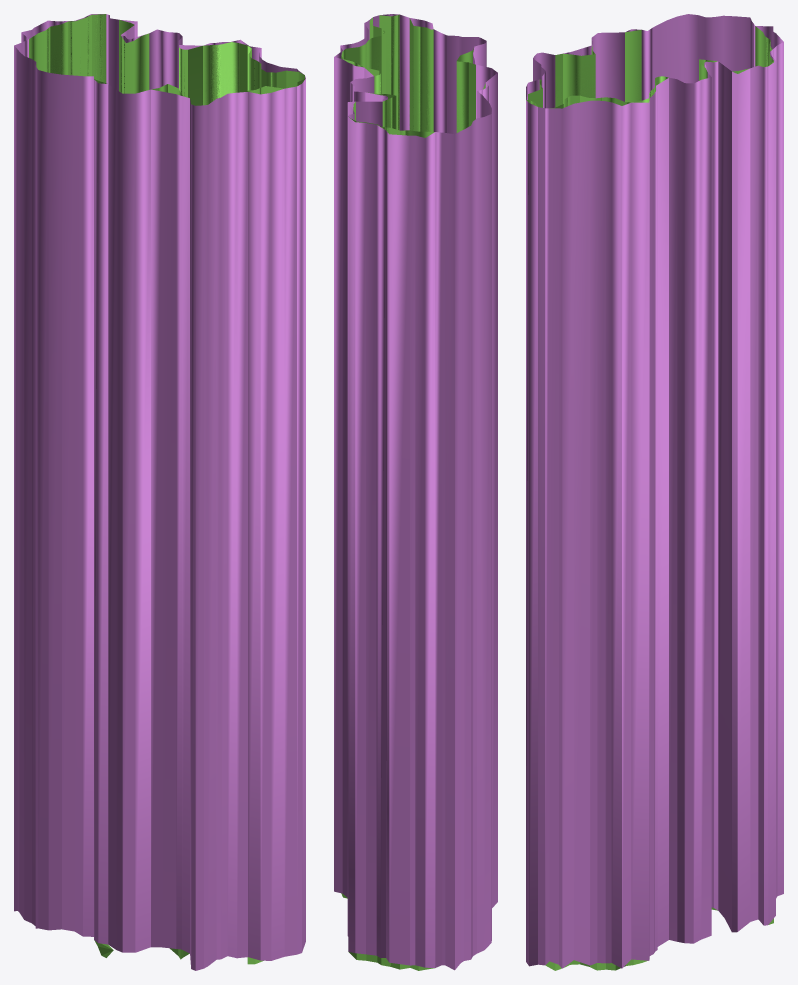
File: level_collision_noobj.fbx
The picture shows the model from 3 angles, left to right: view 1: azimuth 30°, elevation 25°; view 2: azimuth 150°, elevation 25°; view 3: azimuth 270°, elevation 25°; orthographic projection. The views are drawn at different scales.
Parts seen in each view (by area): view 1: level_collision_noobj; view 2: level_collision_noobj; view 3: level_collision_noobj.
Boxes of the visible parts, box(x1,y1,x2,y2) form: level_collision_noobj: box(14, 14, 305, 970); level_collision_noobj: box(334, 14, 497, 970); level_collision_noobj: box(526, 14, 783, 970).
Bounding box in the file's own units: 1259953 × 5416229 × 1451624.
